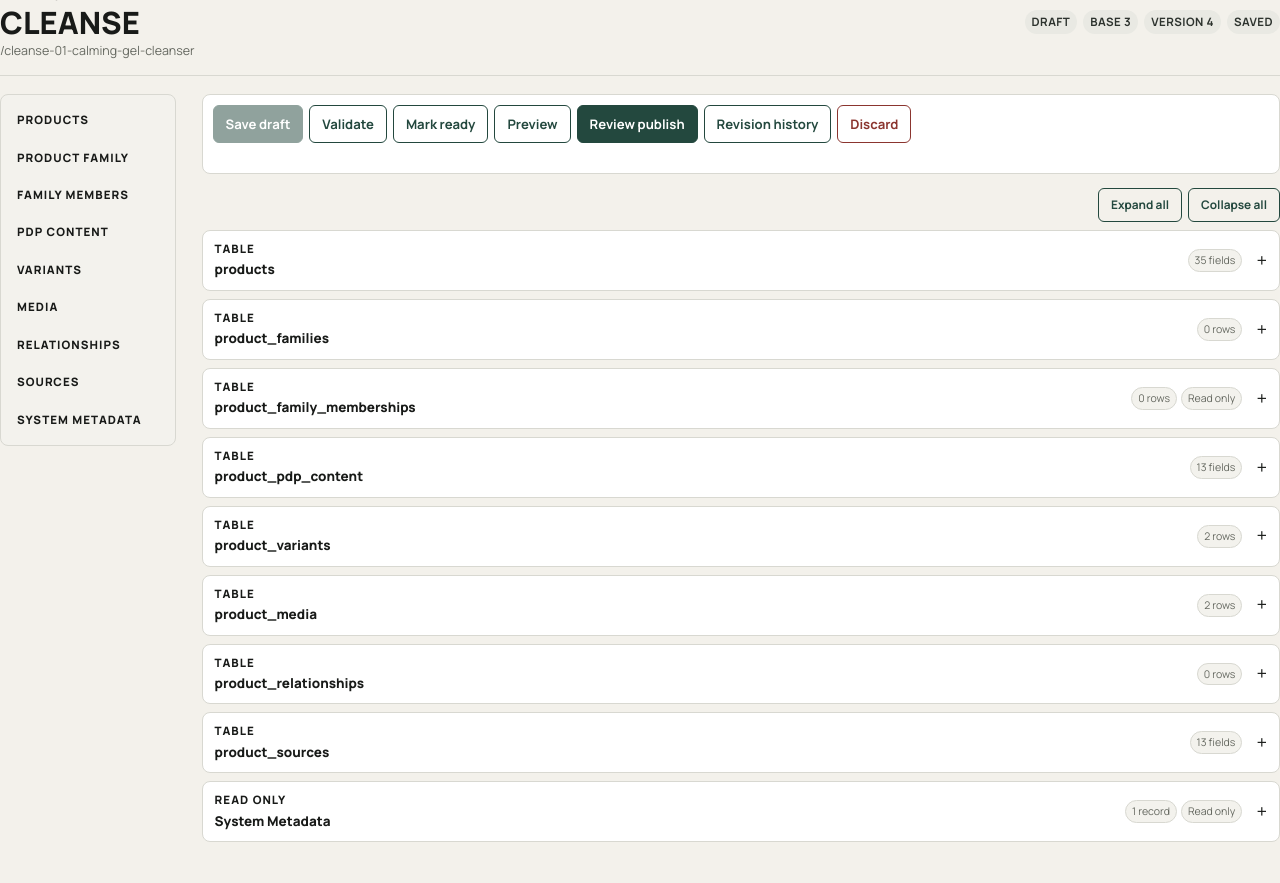
it: CatalogEditor sections › reveals and focuses section validation errors through the full editor
The image size is (1280, 883).
Check: the heading "CLEANSE" is shown, box [0,6,140,38]
Click the button "Validate". click: (348, 124)
box: [309,105,387,143]
(page scrolled)
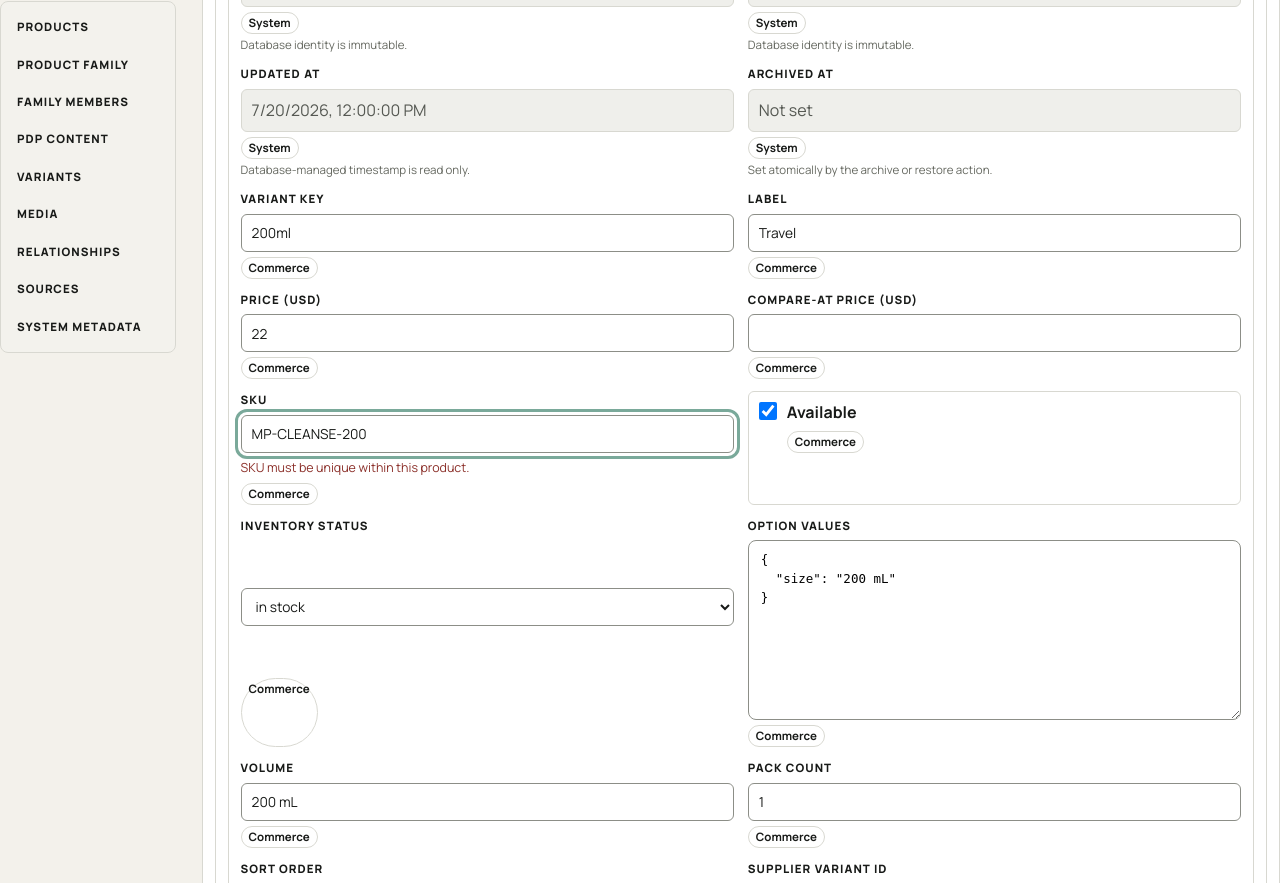
Check: the text "SKU must be unique within this product." is shown, box [241,459,469,476]
